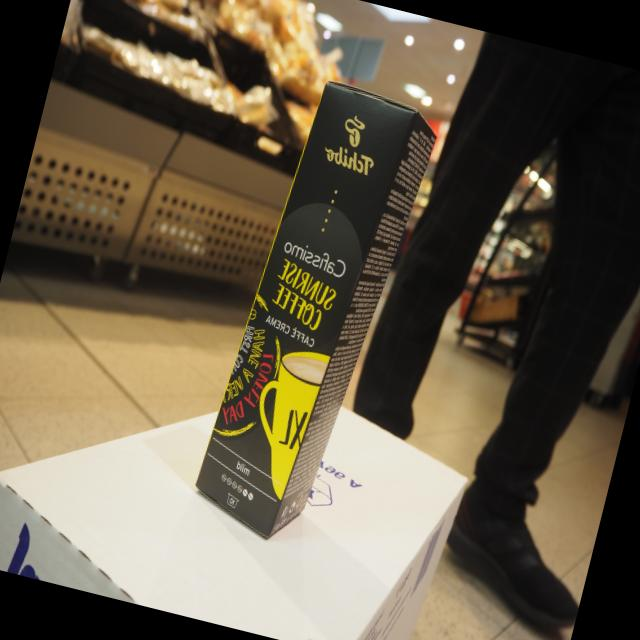Simo Sunrise: (190, 79, 420, 547)
